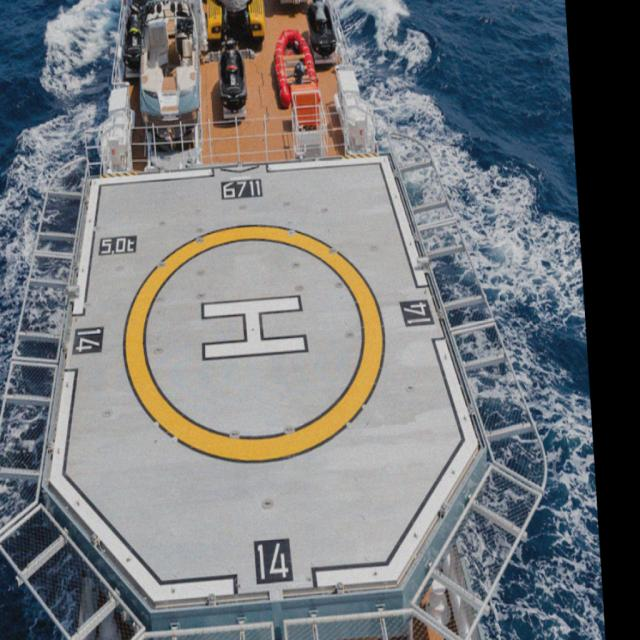helipad: (120, 218, 386, 466)
